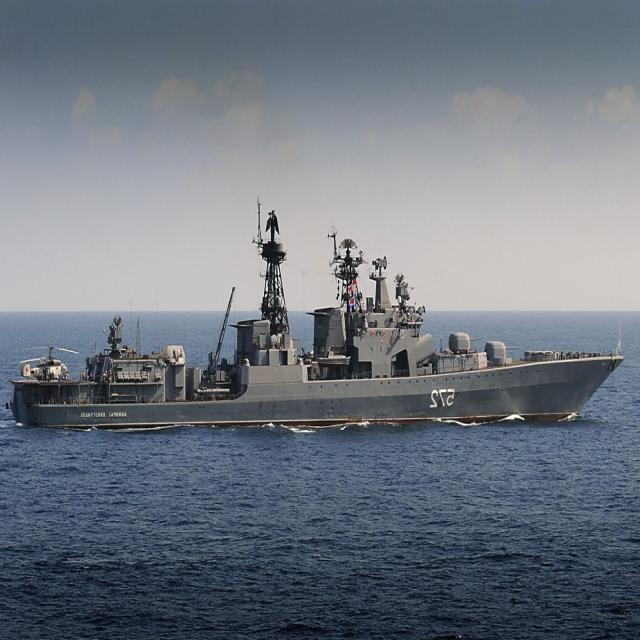navalvessels: (8, 214, 636, 440)
